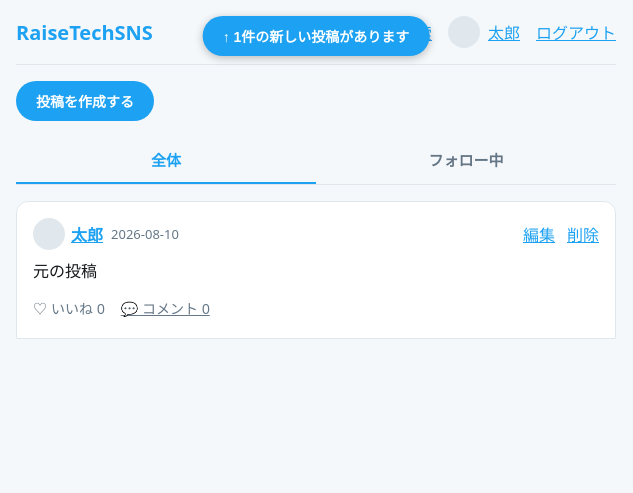
Test case: TimelineScreen › 新着通知バナーをクリックすると新着投稿が一覧の先頭に反映され、最上部までスクロールする
This screenshot has width=633, height=493.
Click the button "↑ 1件の新しい投稿があります": (316, 36) [203, 16, 429, 56]
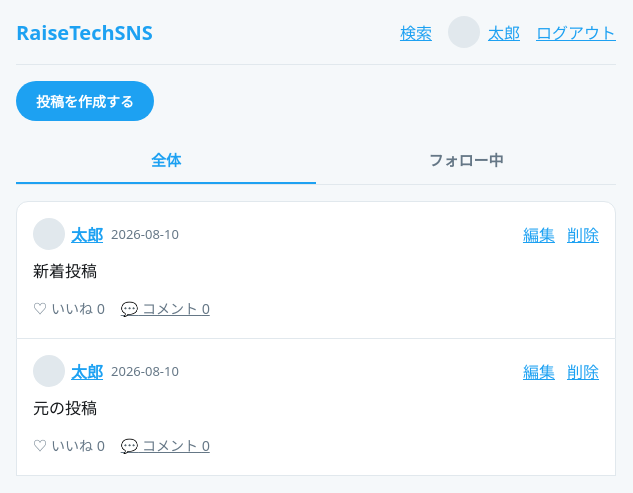
Expected: the text "新着投稿" is shown, [33, 260, 97, 282]
Expected: the button "新しい投稿があります" is gone
